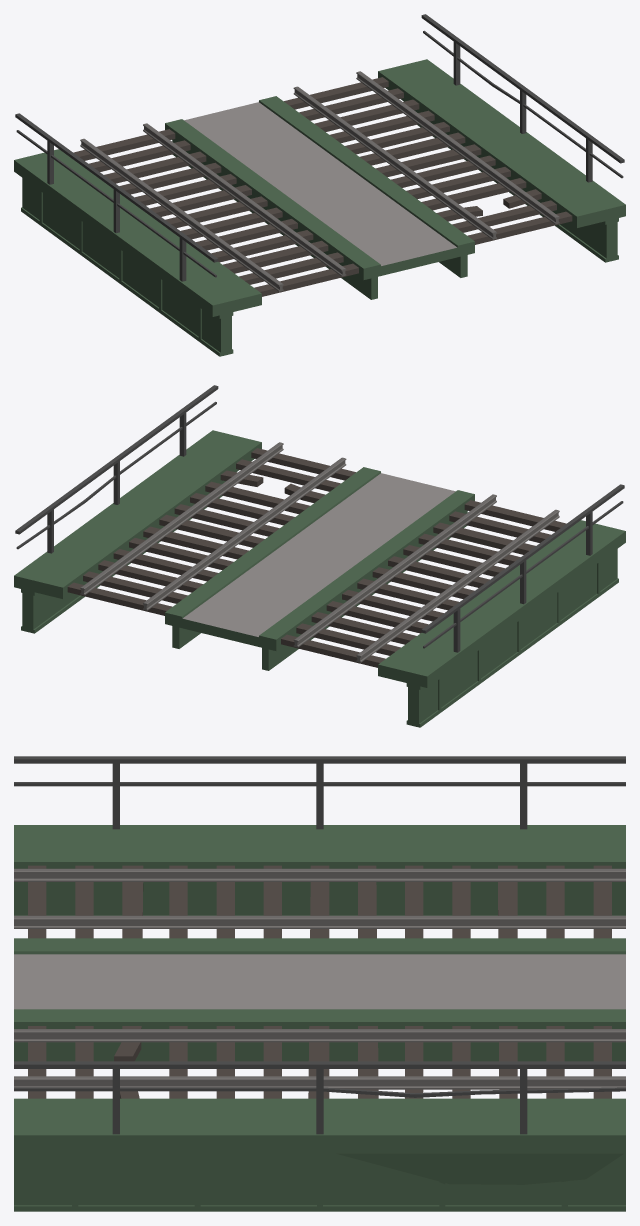
File: SM_Train_Track_Aboveground_Bridge_Steel_Mid.fbx
3 views of the same model, one above another, from view 1: azimuth 30°, elevation 25°; view 2: azimuth 150°, elevation 25°; view 3: azimuth 270°, elevation 25° (orthographic). The views are drawn at different scales.
Visible parts, largest first — view 1: SM_Train_Track_Aboveground_Bridge_Steel_Mid; view 2: SM_Train_Track_Aboveground_Bridge_Steel_Mid; view 3: SM_Train_Track_Aboveground_Bridge_Steel_Mid.
Part boxes in pixels (x1=…): SM_Train_Track_Aboveground_Bridge_Steel_Mid: x1=14, y1=14, x2=625, y2=356; SM_Train_Track_Aboveground_Bridge_Steel_Mid: x1=14, y1=385, x2=625, y2=727; SM_Train_Track_Aboveground_Bridge_Steel_Mid: x1=14, y1=756, x2=625, y2=1211.
Size of the model in its own units: 1200 by 273 by 1000.
